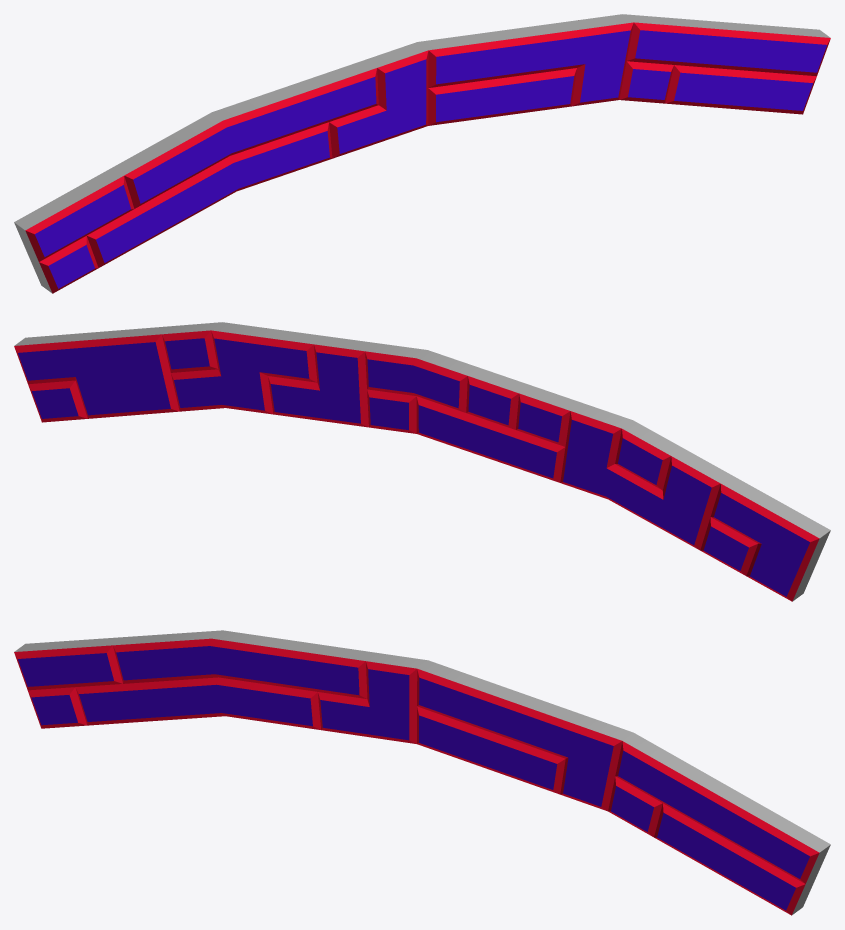
File: Ms_MurScifi04.fbx
3 renders of one model, top to bottom at view 1: azimuth 30°, elevation 25°; view 2: azimuth 150°, elevation 25°; view 3: azimuth 330°, elevation 25°, orthographic.
Parts seen in each view (by area): view 1: Mur13, Mur12; view 2: Mur13, Mur12; view 3: Mur13, Mur12.
Part boxes in pixels (bbox=[...]): Mur13: bbox=[25, 22, 830, 293]; Mur12: bbox=[14, 14, 830, 293]; Mur13: bbox=[14, 330, 819, 601]; Mur12: bbox=[14, 322, 830, 601]; Mur13: bbox=[14, 638, 819, 915]; Mur12: bbox=[14, 630, 830, 914].
Bounding box in the file's own units: 0.8218 × 0.1517 × 0.03.
